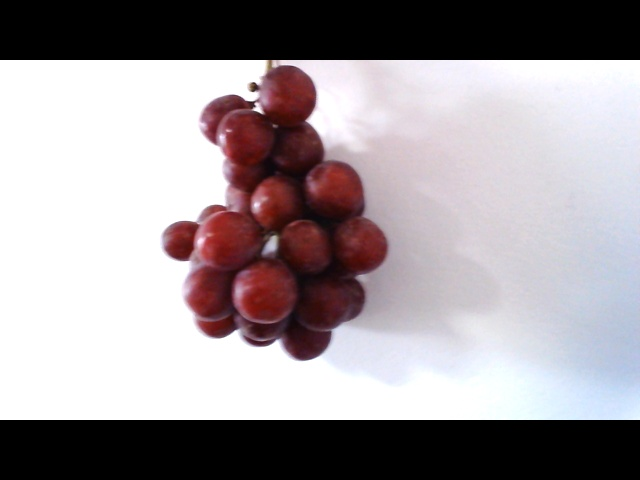grape: (150, 72, 394, 366)
